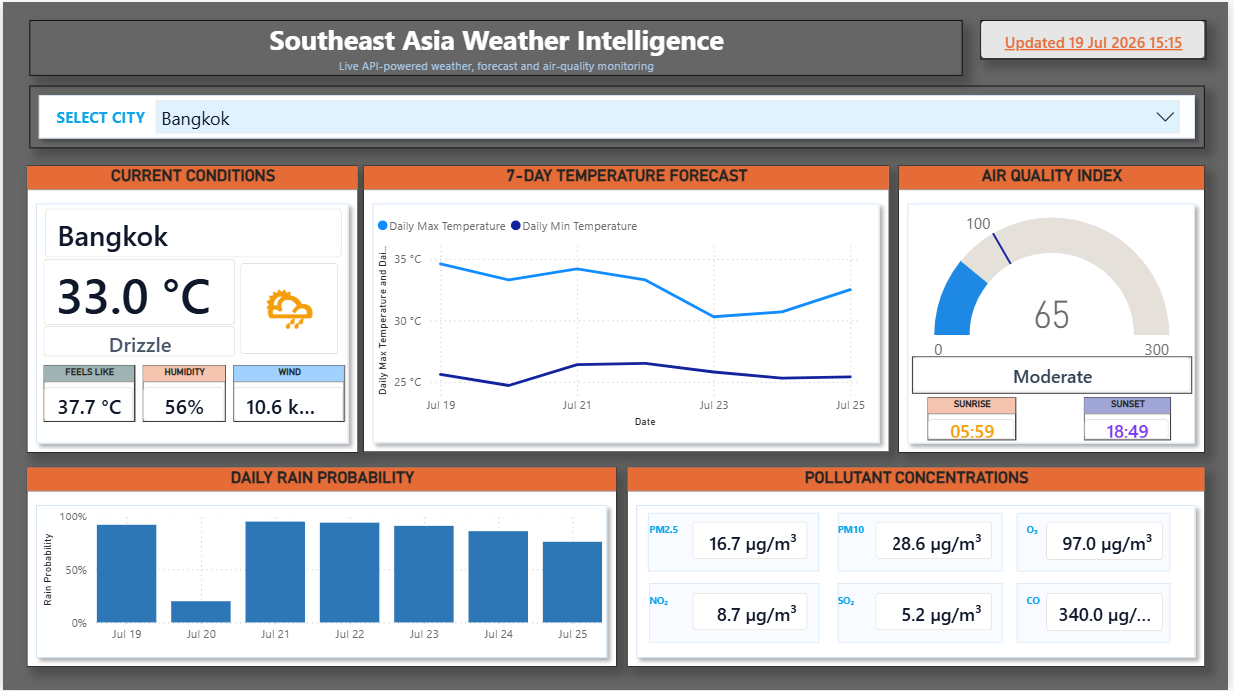

What the dashboard file says about the page in this screenshot:
{"tool":"powerbi","page":{"name":"Weather Intelligence","canvas":[1280,720],"ordinal":0},"visuals":[{"type":"textbox","box":[28.4,18.5,975.3,58.2],"z":20},{"type":"cardVisual","fields":{"Data":["_Measures.Last Updated"]},"box":[1022.1,18.5,235.7,41.2],"z":40},{"type":"shape","box":[28.4,88,1228,65.3],"z":50},{"type":"textbox","box":[41.8,109.6,119.7,33.2],"z":60},{"type":"slicer","fields":{"Values":["Locations.City"]},"box":[155,98,1080,45],"z":70},{"type":"shape","title":"CURRENT CONDITIONS","box":[24.5,170.2,346.2,300],"z":80},{"type":"shape","title":"7-DAY TEMPERATURE FORECAST","box":[376.2,170.4,549.4,299.5],"z":90},{"type":"shape","title":"AIR QUALITY INDEX","box":[936,170,320,300],"z":100},{"type":"shape","title":"DAILY RAIN PROBABILITY","box":[24.1,485.5,616.1,210.1],"z":110},{"type":"shape","title":"POLLUTANT CONCENTRATIONS","box":[651.6,485.5,604.8,210.1],"z":120},{"type":"cardVisual","fields":{"Data":["_Measures.Selected City"]},"box":[44,215.8,310.9,51.1],"z":140},{"type":"cardVisual","fields":{"Data":["_Measures.Weather Icon"]},"box":[247,272.6,102.2,95.1],"z":150},{"type":"cardVisual","fields":{"Data":["_Measures.Current Temperature"]},"box":[42.6,268.3,200.2,69.6],"z":160},{"type":"cardVisual","fields":{"Data":["_Measures.Current Weather"]},"box":[42.6,337.9,200.2,32.7],"z":170},{"type":"cardVisual","title":"FEELS LIKE","fields":{"Data":["_Measures.Feels Like"]},"box":[42.6,379,95.1,59.6],"z":190},{"type":"textbox","box":[147,378,95,18],"z":200},{"type":"cardVisual","title":"HUMIDITY","fields":{"Data":["_Measures.Humidity"]},"box":[146.2,379,86.6,59.6],"z":210},{"type":"cardVisual","title":"WIND","fields":{"Data":["_Measures.Wind Speed"]},"box":[239.9,379,116.4,59.6],"z":230},{"type":"lineChart","fields":{"Category":["DailyForecast.Date"],"Y":["_Measures.Daily Max Temperature","_Measures.Daily Min Temperature"]},"box":[390,218,510,225],"z":250},{"type":"gauge","fields":{"MaxValue":["_Measures.AQI Maximum"],"TargetValue":["_Measures.AQI Target"],"Y":["_Measures.US AQI"]},"box":[956,214,280,165],"z":270},{"type":"cardVisual","fields":{"Data":["_Measures.AQI Category"]},"box":[949.7,370.5,292.4,38.3],"z":280},{"type":"cardVisual","title":"SUNRISE","fields":{"Data":["_Measures.Sunrise"]},"box":[966.8,411.7,92.3,45.4],"z":300},{"type":"cardVisual","title":"SUNSET","fields":{"Data":["_Measures.Sunset"]},"box":[1130,411.7,90.9,45.4],"z":320},{"type":"clusteredColumnChart","fields":{"Category":["DailyForecast.Date"],"Y":["_Measures.Rain Probability"]},"box":[41.2,529.5,584.9,144.8],"z":340},{"type":"shape","box":[672.9,533.8,178.9,62.5],"z":360},{"type":"textbox","box":[674.3,540.9,45.4,24.1],"z":370},{"type":"cardVisual","fields":{"Data":["_Measures.PM2.5"]},"box":[719.8,543.7,120.7,39.7],"z":380},{"type":"shape","box":[871.7,533.8,173.2,62.5],"z":390},{"type":"textbox","box":[871.7,540.9,39.7,22.7],"z":400},{"type":"cardVisual","fields":{"Data":["_Measures.PM10"]},"box":[911.4,543.7,123.5,39.7],"z":410},{"type":"shape","box":[1059,533.8,160.4,62.5],"z":420},{"type":"textbox","box":[1069,540.9,25.6,24.1],"z":430},{"type":"cardVisual","fields":{"Data":["_Measures.Ozone"]},"box":[1090,544,122,40],"z":440},{"type":"shape","box":[674.3,607.6,177.5,62.5],"z":450},{"type":"textbox","box":[674.3,614.7,51.1,24.1],"z":460},{"type":"cardVisual","fields":{"Data":["_Measures.Nitrogen Dioxide"]},"box":[719.8,617.5,120.7,39.7],"z":470},{"type":"shape","box":[871.7,607.6,173.2,62.5],"z":480},{"type":"textbox","box":[871.7,614.7,28.4,24.1],"z":490},{"type":"cardVisual","fields":{"Data":["_Measures.Sulphur Dioxide"]},"box":[911.4,617.5,123.5,39.7],"z":500},{"type":"shape","box":[1059,607.6,160.4,62.5],"z":510},{"type":"textbox","box":[1069,614.7,25.6,24.1],"z":520},{"type":"cardVisual","fields":{"Data":["_Measures.Carbon Monoxide"]},"box":[1090,618,122,40],"z":530}]}

Visuals, with their boxes in screenshot pixels (x1, y1, x2, y2), scaled from the page's 1280x720 canvas onto the 1234x691 screenshot:
textbox: crop(27, 18, 968, 74)
cardVisual - _Measures.Last Updated: crop(985, 18, 1213, 57)
shape: crop(27, 84, 1211, 147)
textbox: crop(40, 105, 156, 137)
slicer - Locations.City: crop(149, 94, 1191, 137)
"CURRENT CONDITIONS" shape: crop(24, 163, 357, 451)
"7-DAY TEMPERATURE FORECAST" shape: crop(363, 164, 892, 451)
"AIR QUALITY INDEX" shape: crop(902, 163, 1211, 451)
"DAILY RAIN PROBABILITY" shape: crop(23, 466, 617, 668)
"POLLUTANT CONCENTRATIONS" shape: crop(628, 466, 1211, 668)
cardVisual - _Measures.Selected City: crop(42, 207, 342, 256)
cardVisual - _Measures.Weather Icon: crop(238, 262, 337, 353)
cardVisual - _Measures.Current Temperature: crop(41, 257, 234, 324)
cardVisual - _Measures.Current Weather: crop(41, 324, 234, 356)
"FEELS LIKE" cardVisual: crop(41, 364, 133, 421)
textbox: crop(142, 363, 233, 380)
"HUMIDITY" cardVisual: crop(141, 364, 224, 421)
"WIND" cardVisual: crop(231, 364, 343, 421)
lineChart - DailyForecast.Date x _Measures.Daily Max Temperature: crop(376, 209, 868, 425)
gauge - _Measures.AQI Maximum x _Measures.AQI Target: crop(922, 205, 1192, 364)
cardVisual - _Measures.AQI Category: crop(916, 356, 1197, 392)
"SUNRISE" cardVisual: crop(932, 395, 1021, 439)
"SUNSET" cardVisual: crop(1089, 395, 1177, 439)
clusteredColumnChart - DailyForecast.Date x _Measures.Rain Probability: crop(40, 508, 604, 647)
shape: crop(649, 512, 821, 572)
textbox: crop(650, 519, 694, 542)
cardVisual - _Measures.PM2.5: crop(694, 522, 810, 560)
shape: crop(840, 512, 1007, 572)
textbox: crop(840, 519, 879, 541)
cardVisual - _Measures.PM10: crop(879, 522, 998, 560)
shape: crop(1021, 512, 1176, 572)
textbox: crop(1031, 519, 1055, 542)
cardVisual - _Measures.Ozone: crop(1051, 522, 1168, 560)
shape: crop(650, 583, 821, 643)
textbox: crop(650, 590, 699, 613)
cardVisual - _Measures.Nitrogen Dioxide: crop(694, 593, 810, 631)
shape: crop(840, 583, 1007, 643)
textbox: crop(840, 590, 868, 613)
cardVisual - _Measures.Sulphur Dioxide: crop(879, 593, 998, 631)
shape: crop(1021, 583, 1176, 643)
textbox: crop(1031, 590, 1055, 613)
cardVisual - _Measures.Carbon Monoxide: crop(1051, 593, 1168, 631)
